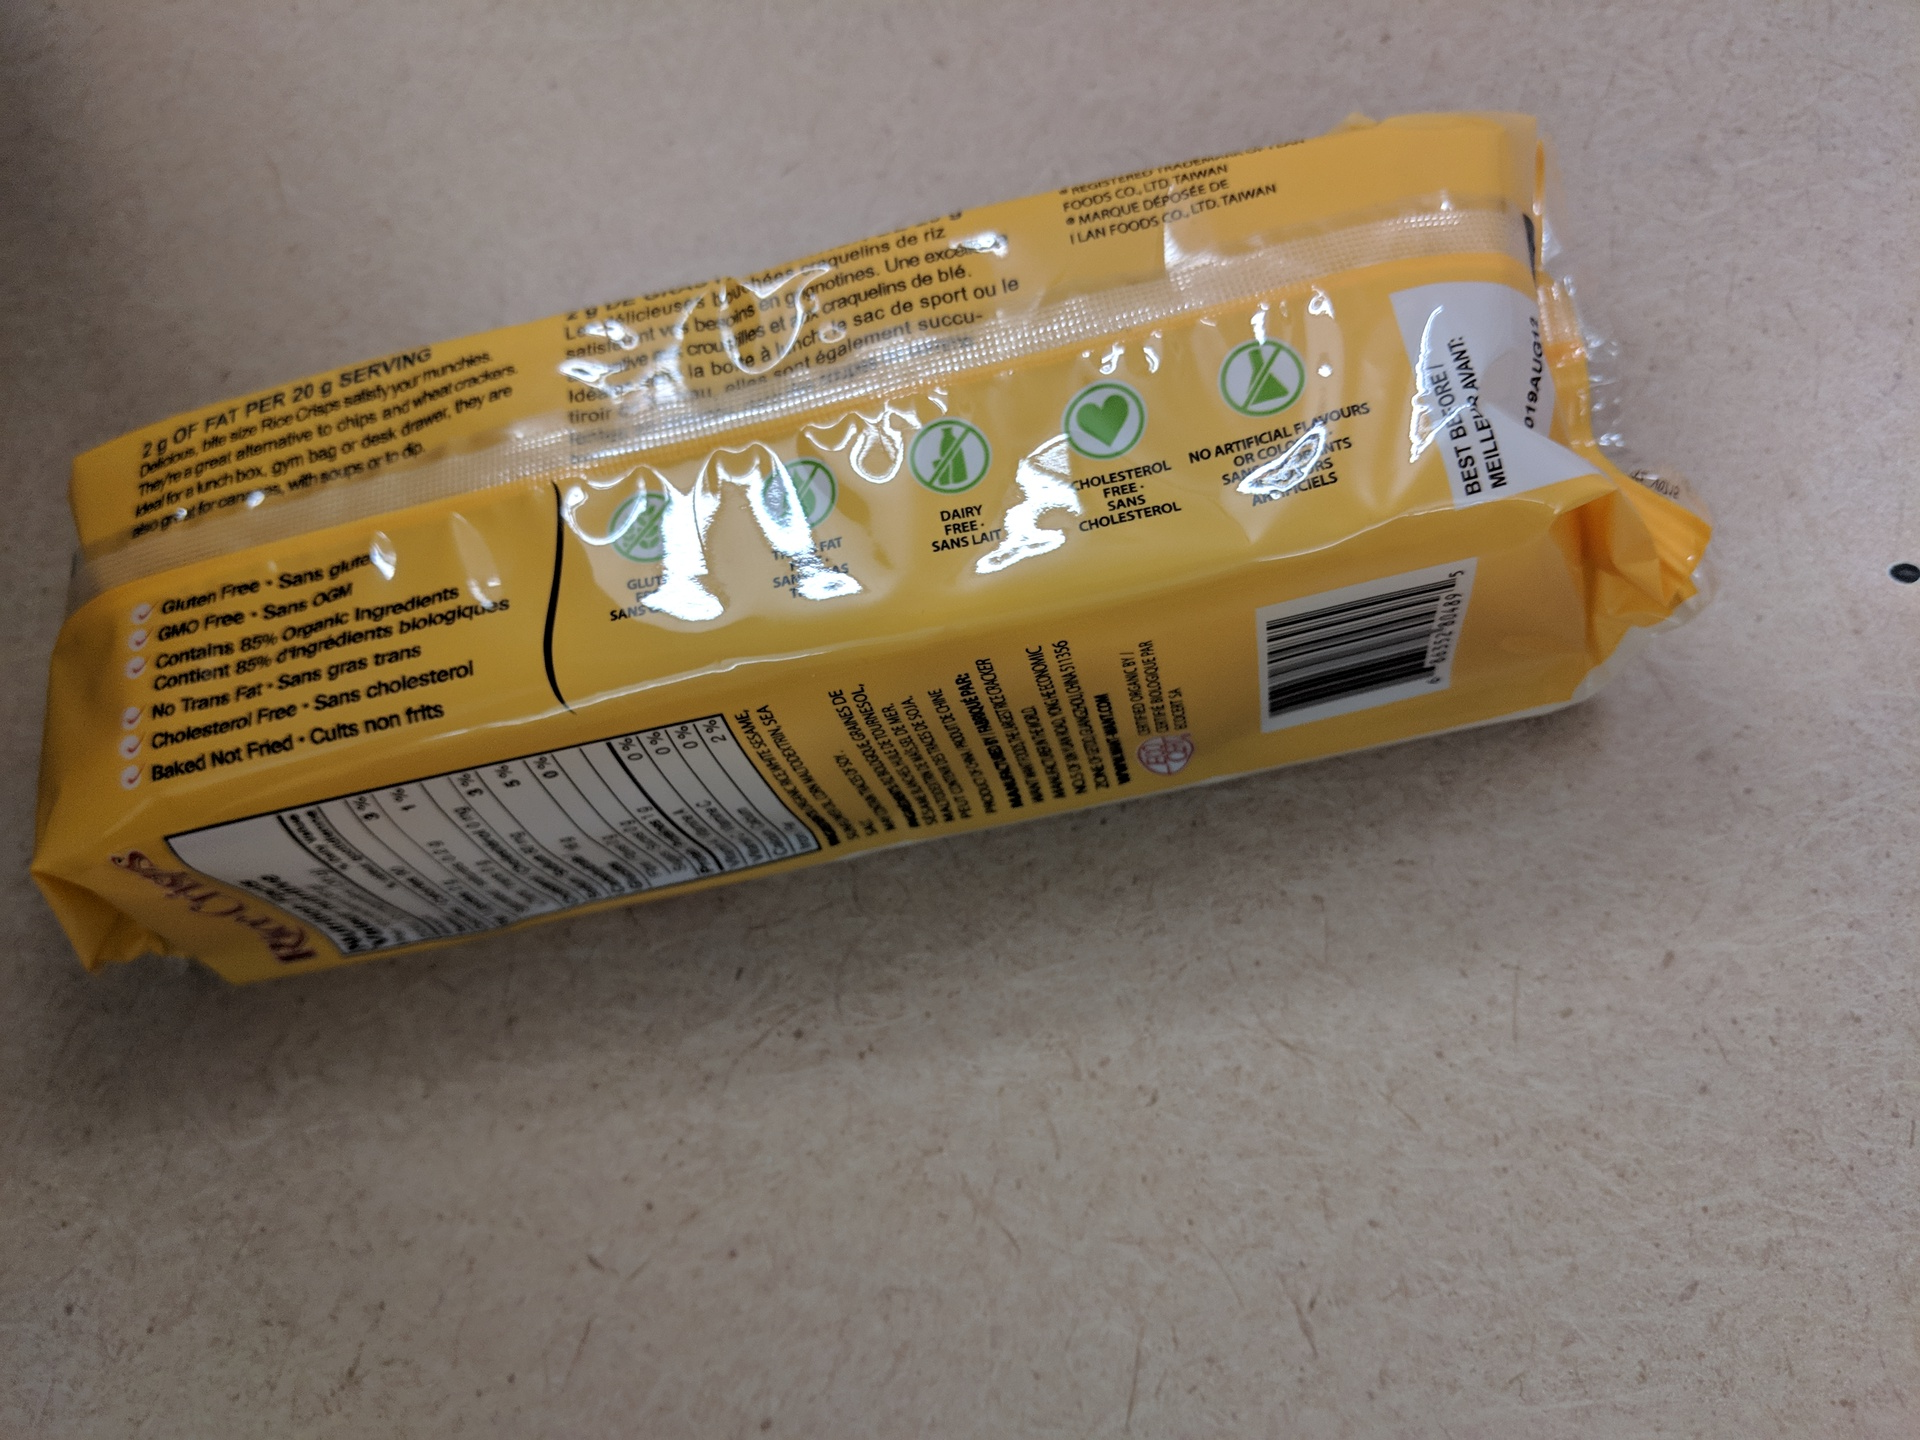hot_kid_rice_crisps_sesame: (199, 448, 1893, 1333)
